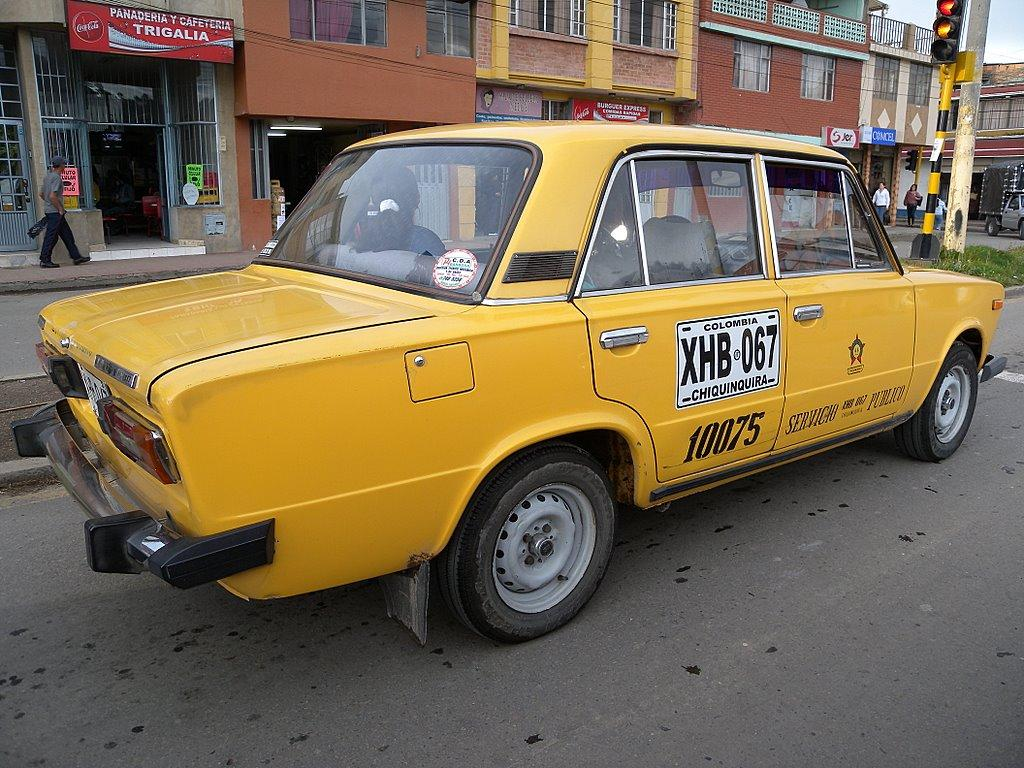taxi: (104, 90, 1024, 653)
